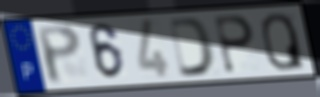4: (135, 16, 172, 81)
6: (87, 22, 126, 82)
D: (167, 15, 217, 79)
P: (34, 23, 84, 87), (212, 14, 256, 76)
Q: (259, 11, 307, 72)
